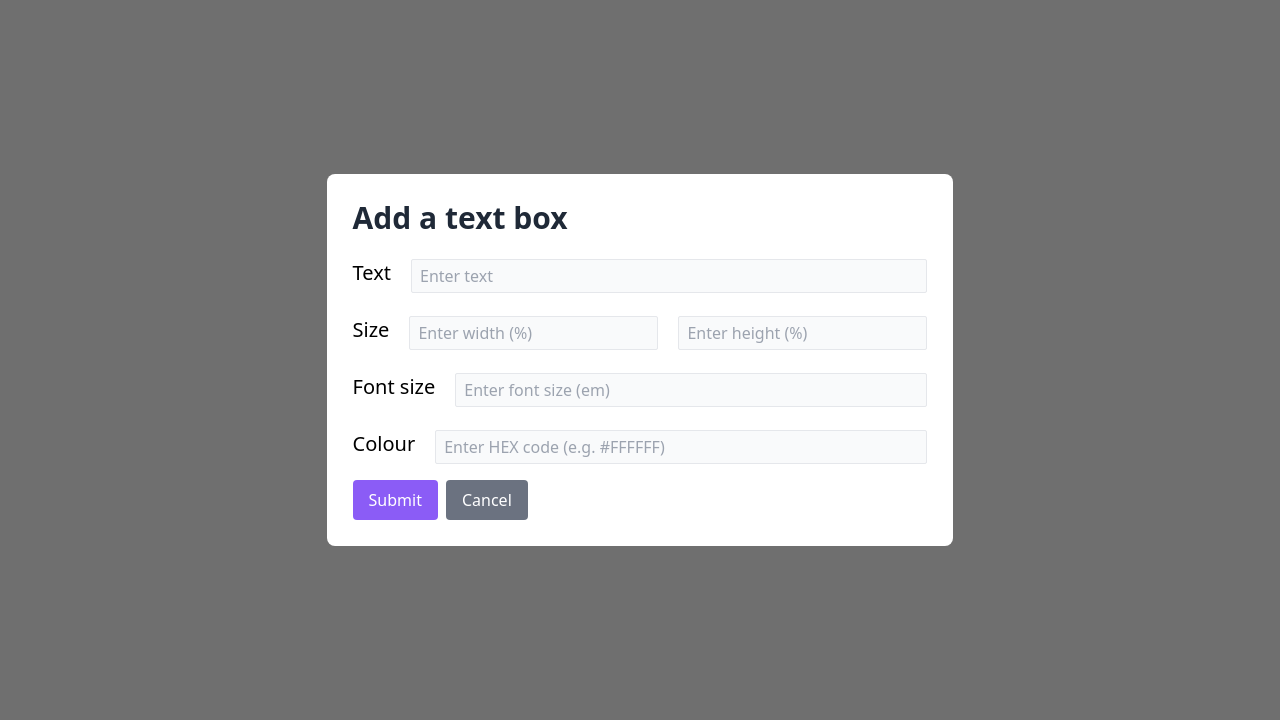
it: TextCreateModal › displays an error when submitting with invalid width
Type "Test Text" into the field with placeholder "Enter text" at (669, 276), box top-left (411, 259), bottom-right (927, 293)
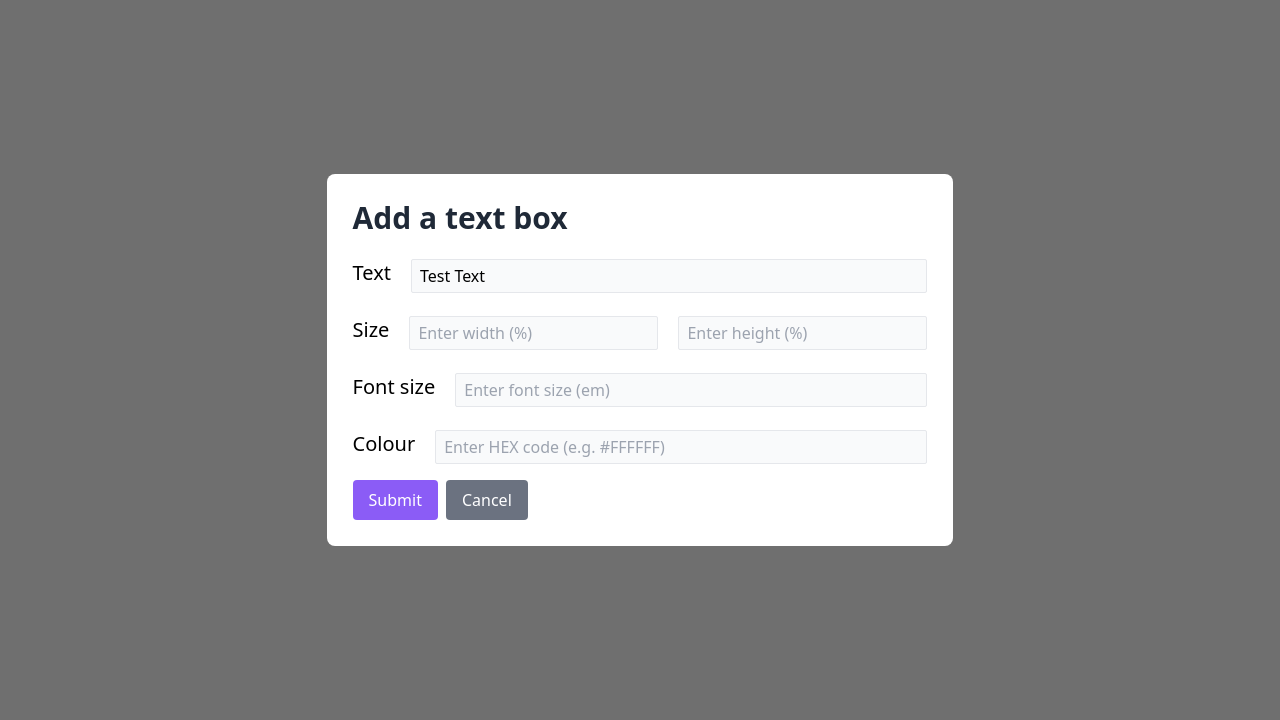
Type "101" into the field with placeholder "Enter width (%)" at (534, 333), box top-left (409, 316), bottom-right (658, 350)
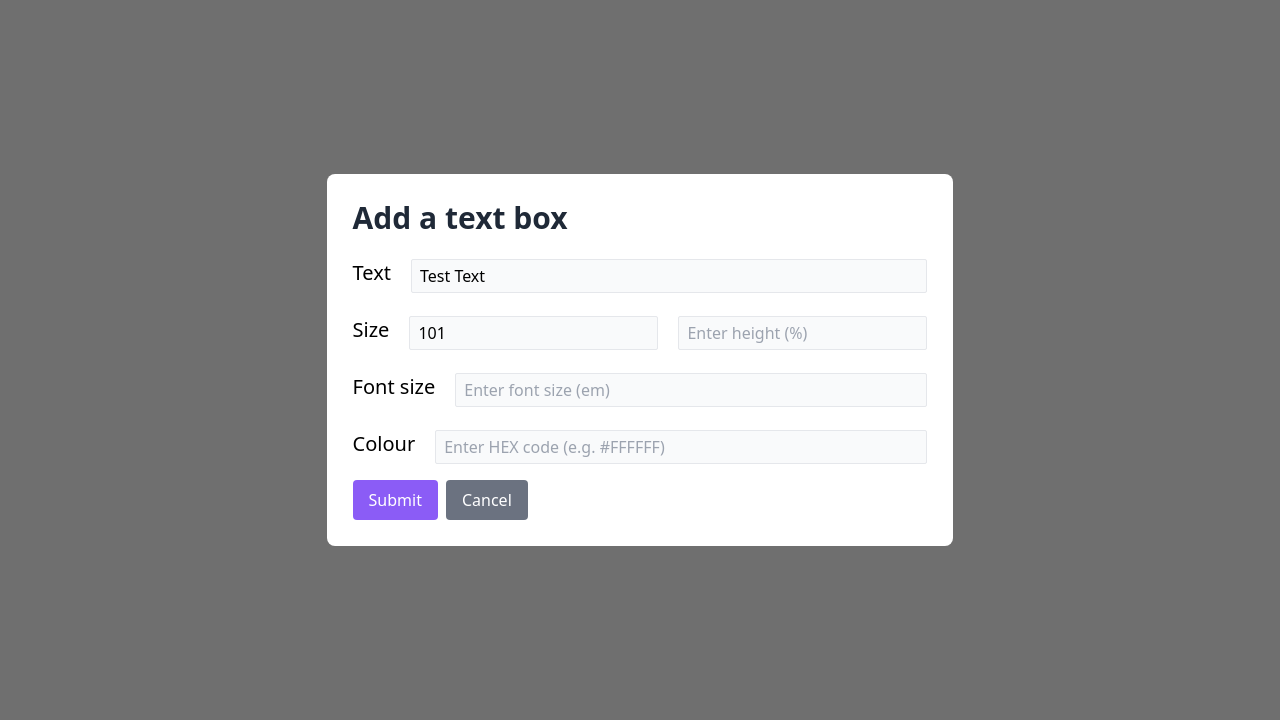
Click the button "Submit" at (395, 500), box top-left (353, 480), bottom-right (438, 520)
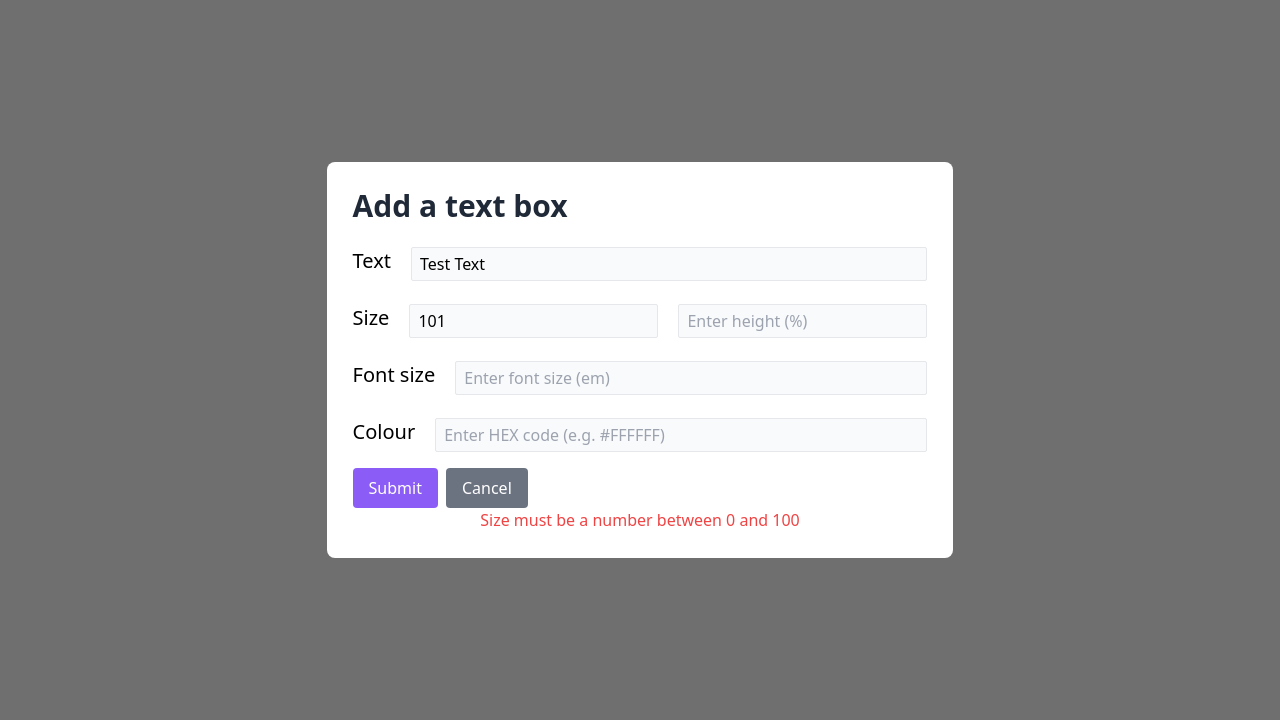
expect the text "Size must be a number between 0 and 100" is shown: met, box top-left (480, 508), bottom-right (800, 532)
